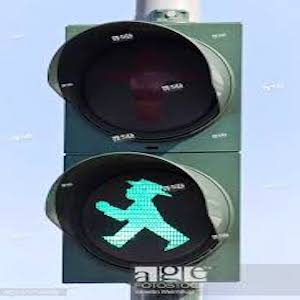green: (88, 169, 197, 257)
